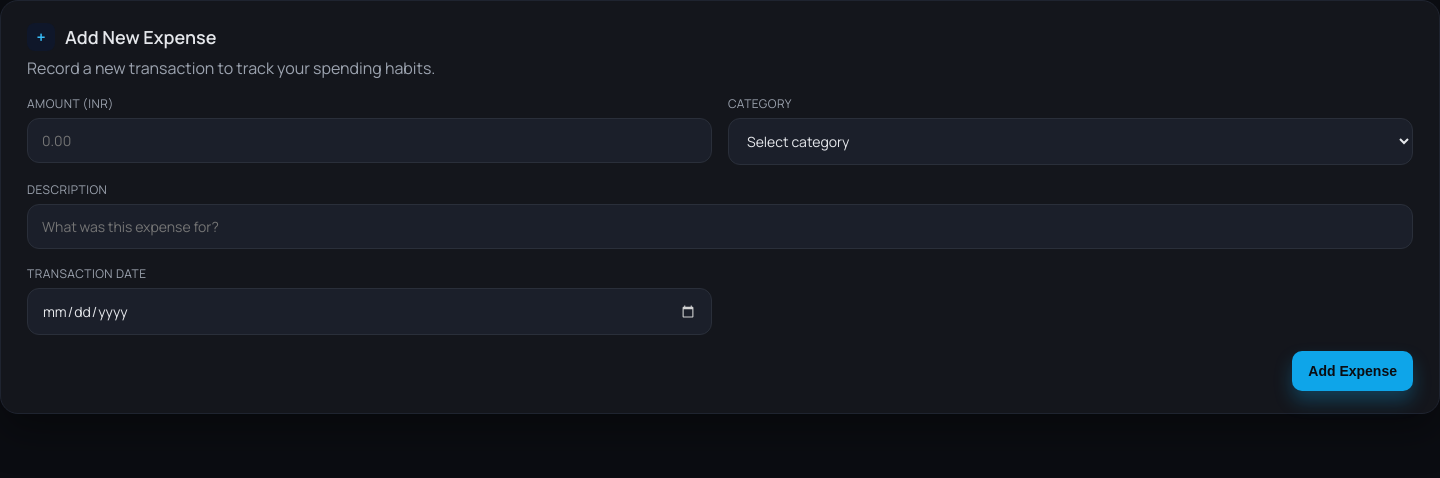
Scenario: ExpenseForm categories › surfaces the error when the API rejects the category
Type "120" into the field labelled "Amount (INR)" at (370, 140), box [27,118,712,163]
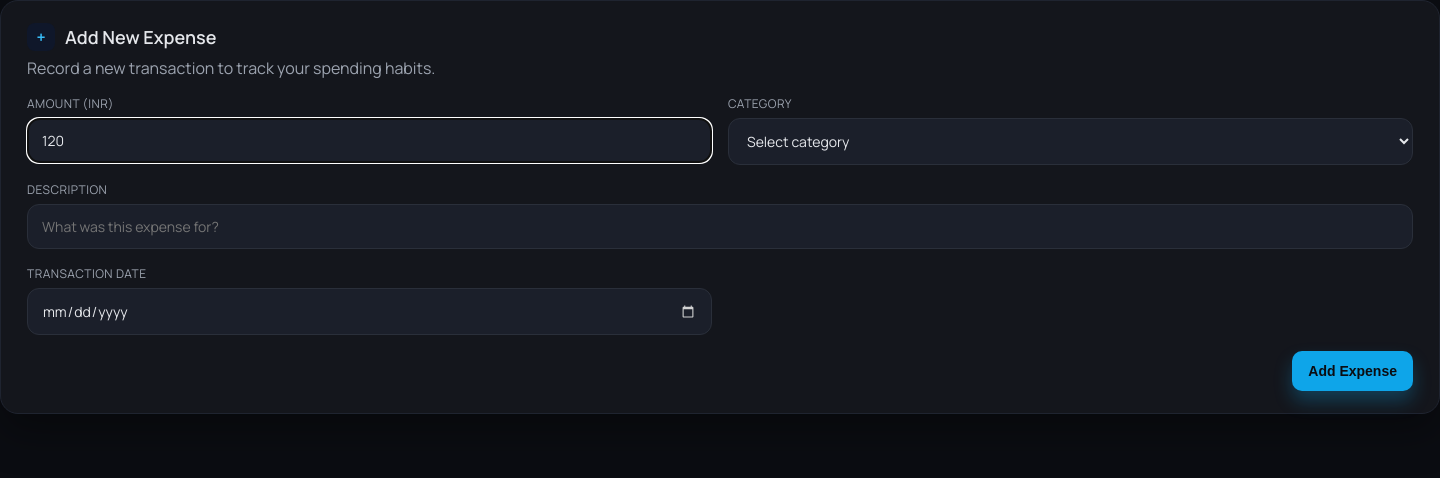
Select "Travel" in the dropdown labelled "Category" at (1070, 142), box [728,118,1413,165]
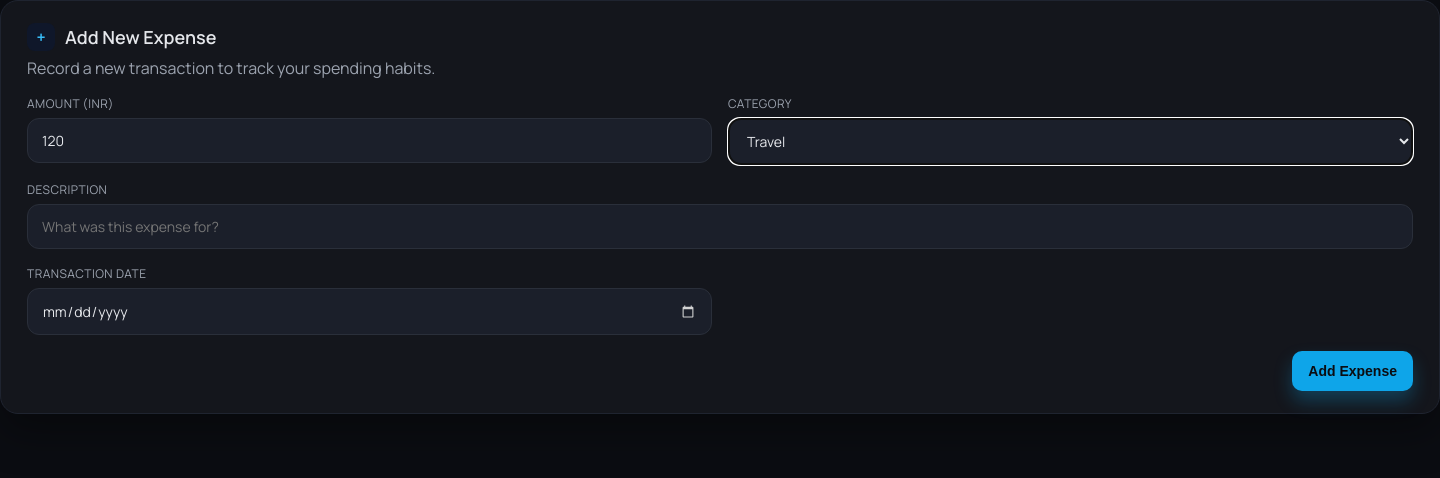
Type "2026-05-01" into the date field labelled "Transaction Date" at (370, 312), box [27,288,712,335]
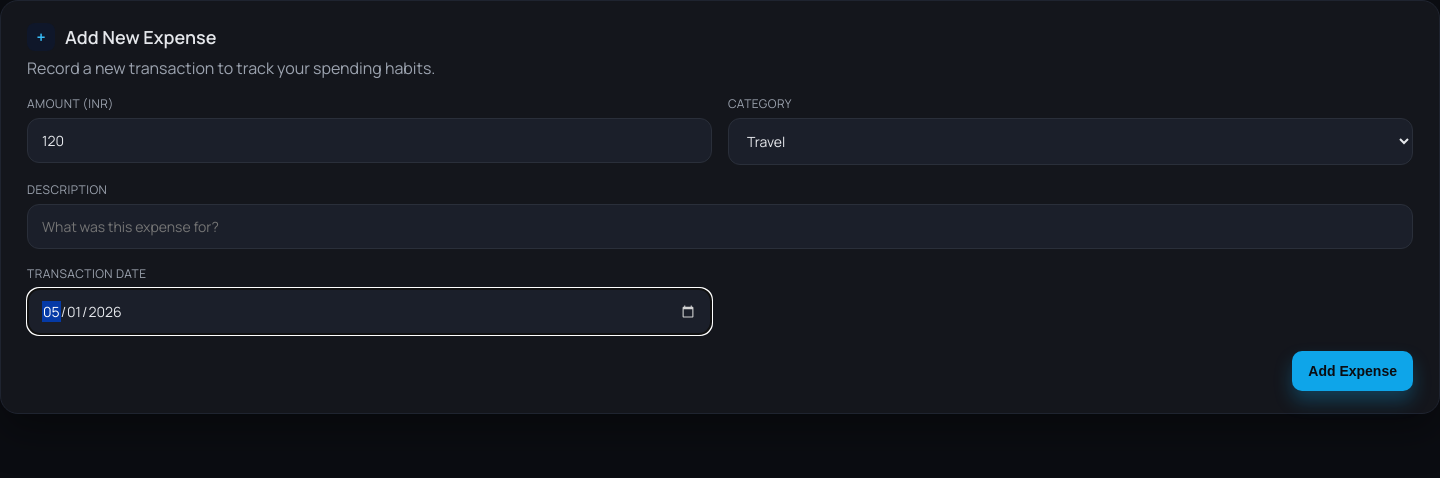
Click the button "Add Expense" at (1353, 371), box [1292,351,1413,391]
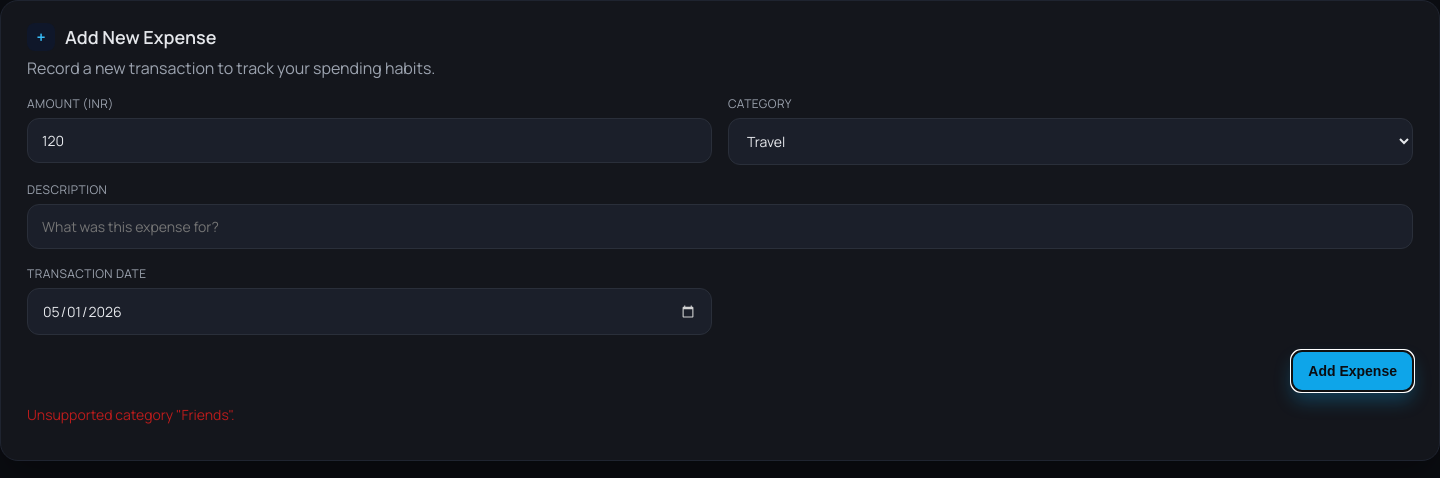
Expected: the text "Unsupported category \"Friends\"." is shown, [27,405,235,424]
